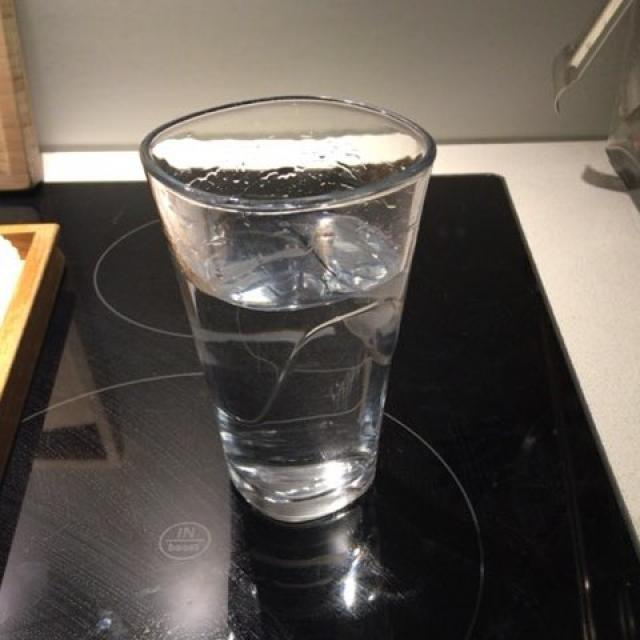water: (172, 211, 402, 530)
